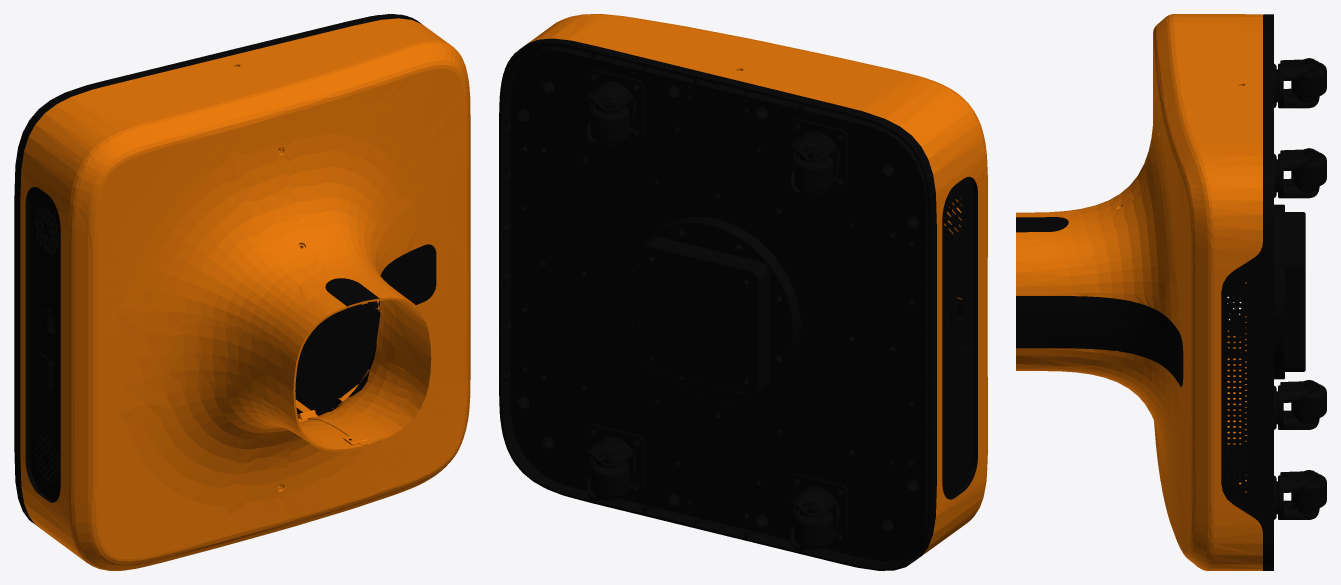
3 renders of one model, left to right at view 1: azimuth 30°, elevation 25°; view 2: azimuth 150°, elevation 25°; view 3: azimuth 270°, elevation 25°, orthographic. The views are drawn at different scales.
Parts seen in each view (by area): view 1: base_link.032, base_link.045; view 2: base_link.045, base_link.032, base_link.022, base_link.198, base_link.010, base_link, base_link.005, base_link.042; view 3: base_link.032, base_link.022, base_link.005, base_link.010, base_link.198, base_link.
Part boxes in pixels (x1,y1,x2,y2): base_link.032: [14, 14, 470, 570]; base_link.045: [36, 301, 379, 476]; base_link.045: [511, 46, 928, 561]; base_link.032: [499, 14, 987, 570]; base_link.022: [627, 217, 801, 401]; base_link.198: [587, 424, 643, 501]; base_link.010: [587, 69, 643, 146]; base_link: [791, 474, 847, 551]; base_link.005: [791, 119, 847, 195]; base_link.042: [948, 345, 970, 382]; base_link.032: [1016, 14, 1273, 570]; base_link.022: [1274, 204, 1305, 379]; base_link.005: [1274, 58, 1326, 108]; base_link.010: [1274, 148, 1326, 198]; base_link.198: [1274, 470, 1326, 519]; base_link: [1274, 380, 1326, 429].
Bounding box in the file's own units: 0.6406 × 0.6366 × 0.4376.
